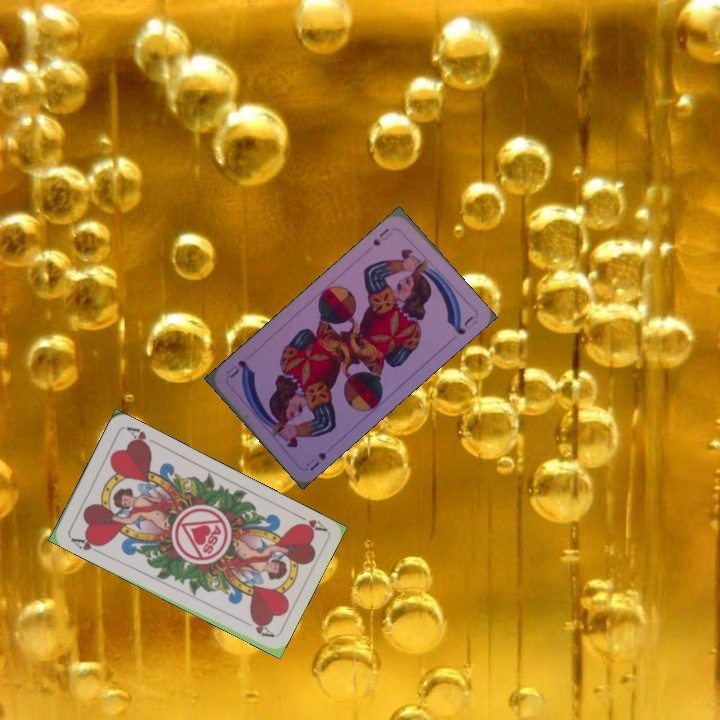HA: (290, 509, 328, 535), (66, 533, 106, 556)
SU: (302, 448, 329, 473), (369, 224, 395, 249)
